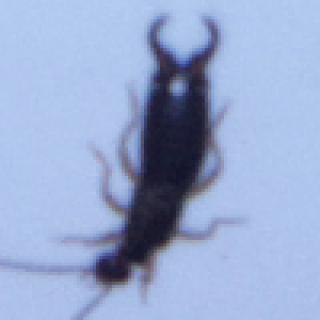earwig: (8, 10, 248, 320)
